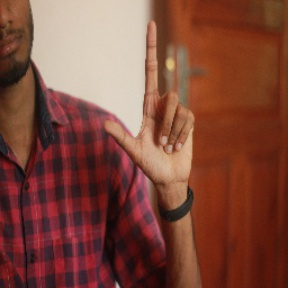L: (104, 20, 199, 178)
